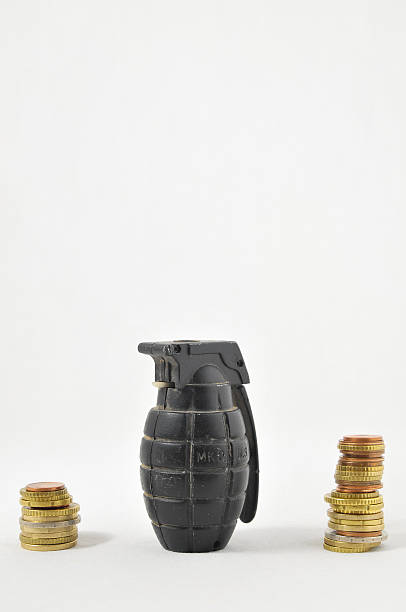e1: (135, 340, 259, 555)
